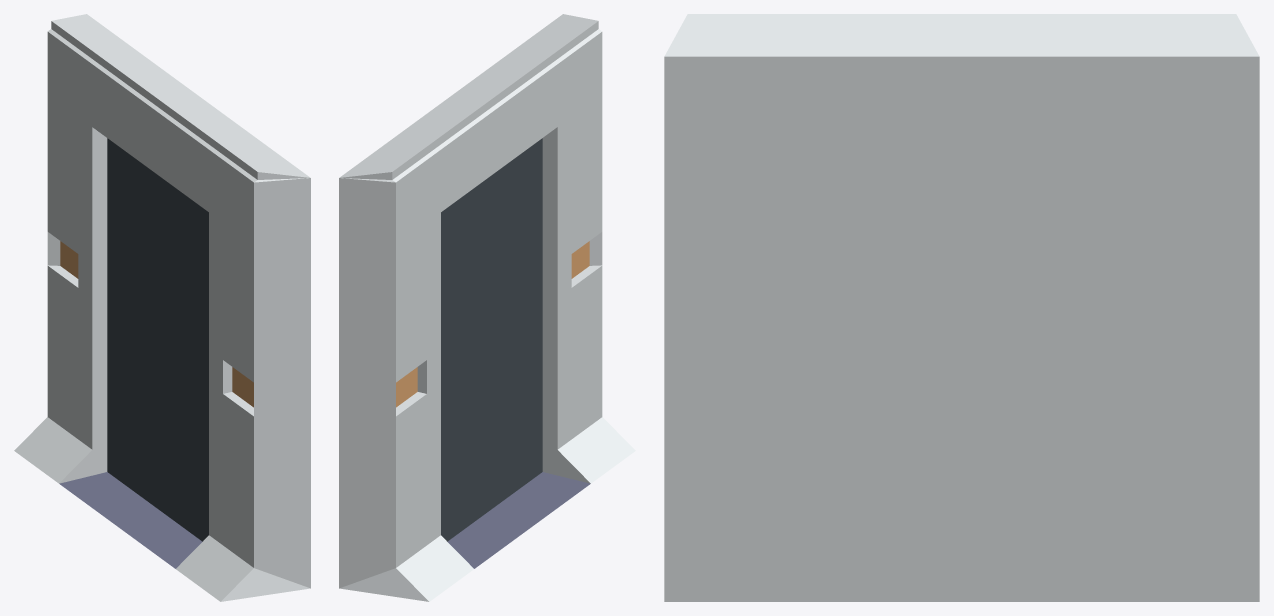
Rendered from GateLevelStart 1.fbx.
The picture shows the model from 3 angles, left to right: view 1: azimuth 30°, elevation 25°; view 2: azimuth 150°, elevation 25°; view 3: azimuth 270°, elevation 25°; orthographic projection. The views are drawn at different scales.
Visible parts, largest first — view 1: GateLevelStart; view 2: GateLevelStart; view 3: GateLevelStart.
Part boxes in pixels (x1,y1,x2,y2): GateLevelStart: (14,14,310,601); GateLevelStart: (339,14,635,601); GateLevelStart: (664,14,1259,601).
Size of the model in its own units: 0.4444 by 2.2 by 2.11.
